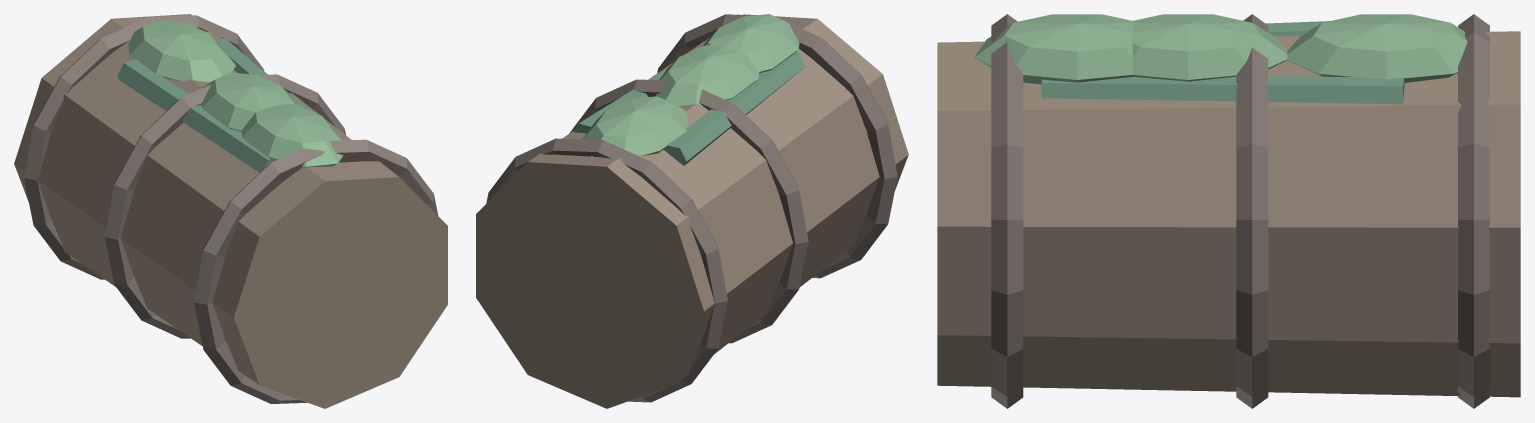
Rendered from tronco_flotante.glb.
The picture shows the model from 3 angles, left to right: view 1: azimuth 30°, elevation 25°; view 2: azimuth 150°, elevation 25°; view 3: azimuth 270°, elevation 25°; orthographic projection. The views are drawn at different scales.
Parts seen in each view (by area): view 1: tronco_flotante; view 2: tronco_flotante; view 3: tronco_flotante.
Boxes of the visible parts, <box> form: tronco_flotante: <box>14,14,447,408</box>; tronco_flotante: <box>476,14,908,408</box>; tronco_flotante: <box>937,14,1520,408</box>.
Size of the model in its own units: 0.678 by 0.694 by 1.
